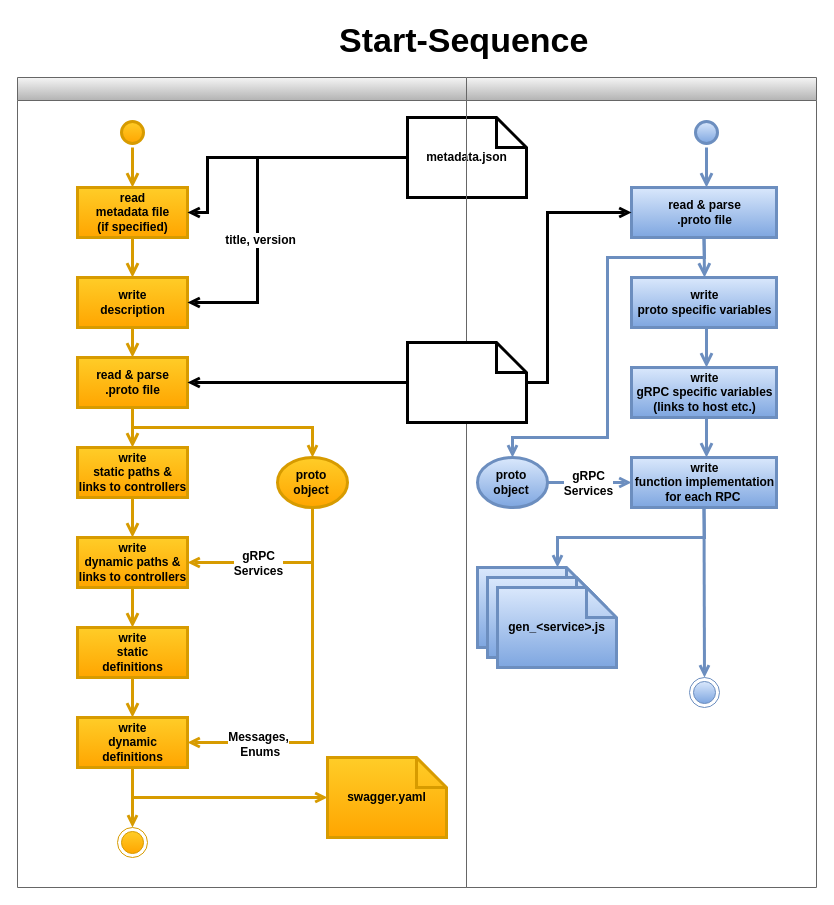
Image size: 834x905. Some labels were removed from this diagram. The shapes that lost their labels are listed below. From the top down, each one's box as (x1, y1, x2, y2) in pixels, then its label:
(406, 340, 528, 424): main.proto
(16, 76, 466, 888): swagger_gen.js
(466, 76, 816, 888): swagger_controller_gen.js
